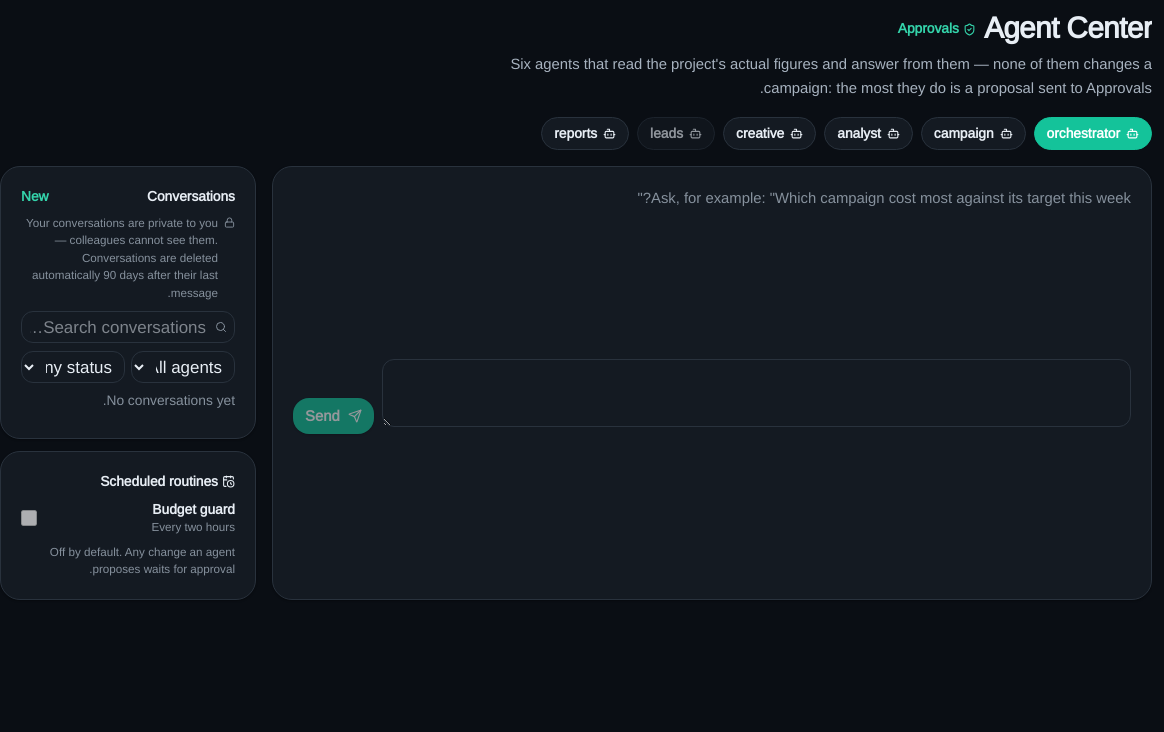
Test: the agent center › sends to the chosen agent and shows the reply with the tools it used
The image size is (1164, 732).
Click the tab with test id "agent-analyst".
click(868, 133)  # box [824,117,913,150]
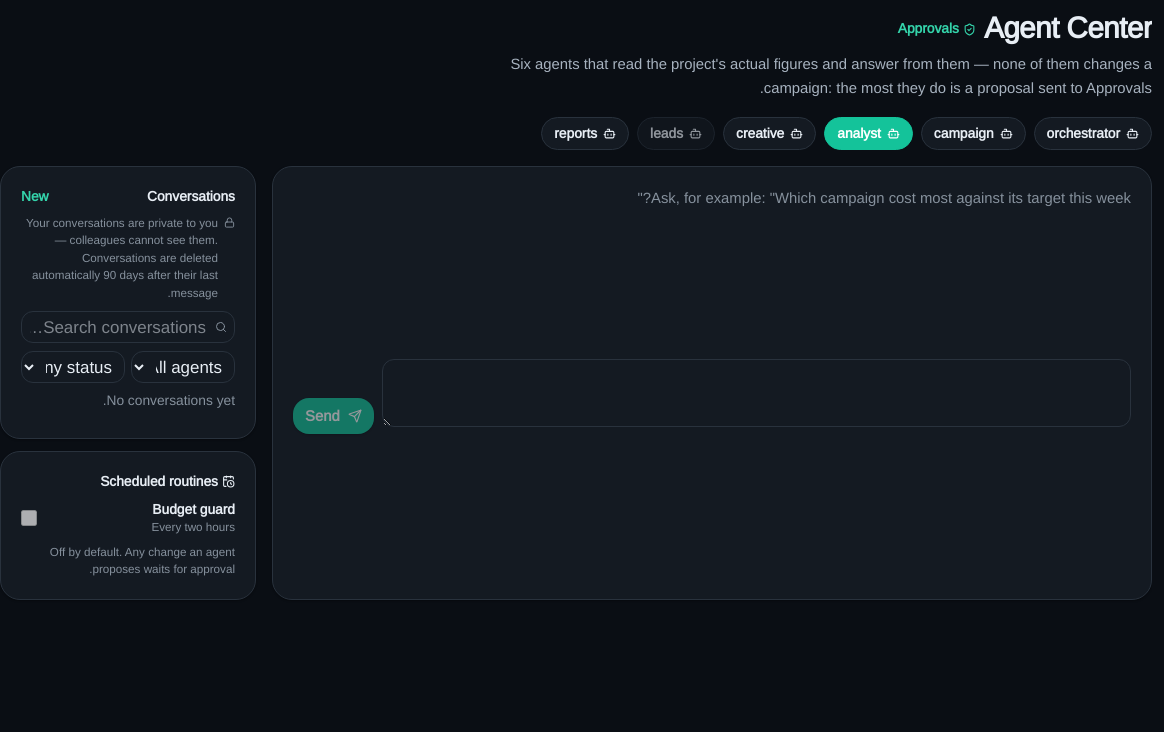
Type "Which campaign leads?" into the text box with test id "agent-input".
click(756, 393); type("Which campaign leads?")  # box [382,359,1131,427]
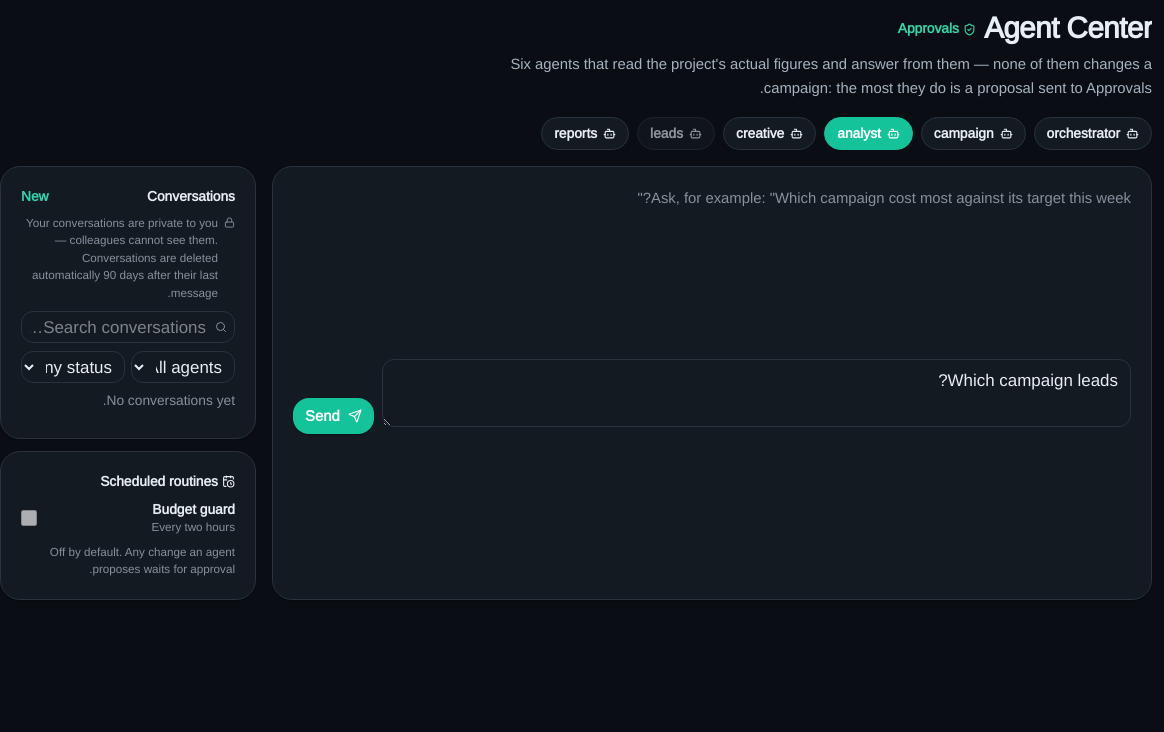
Click the button with test id "agent-send".
click(333, 416)  # box [293,398,374,434]
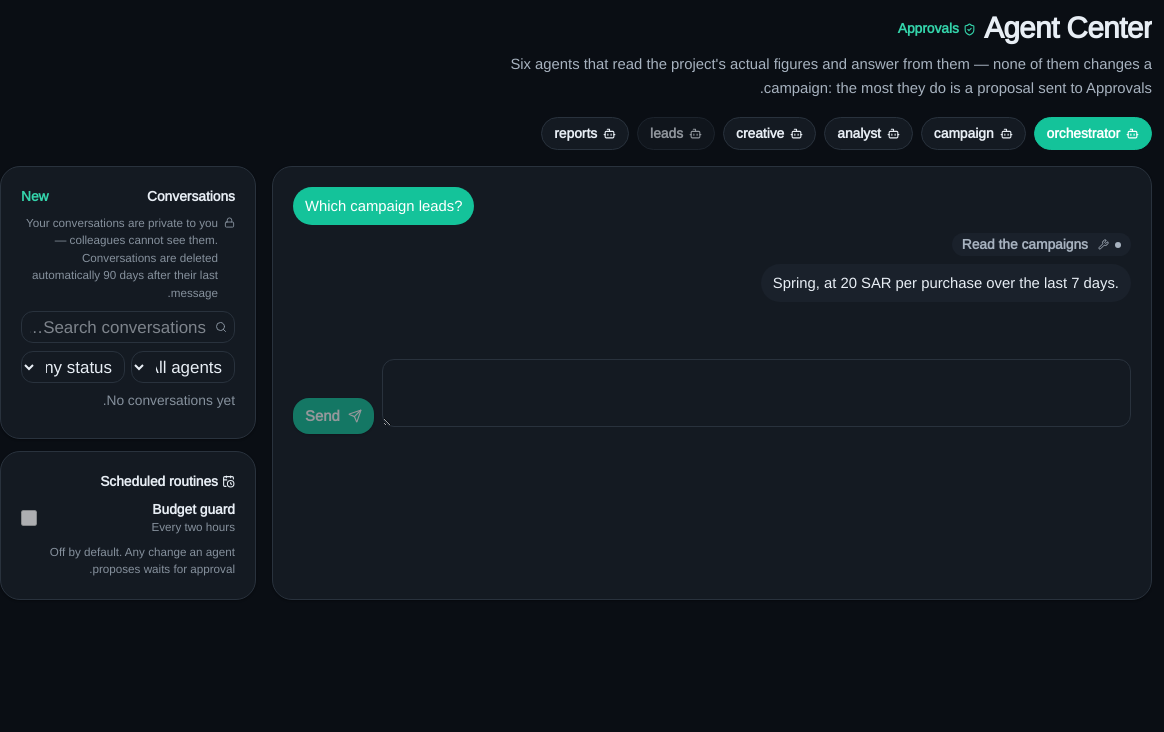
Now the list item with test id "agent-message-assistant" shows "Spring, at 20 SAR", box [773,274,1119,291]
Now the list item with test id "agent-activity" reads "Read the campaigns", box [962,236,1088,252]
